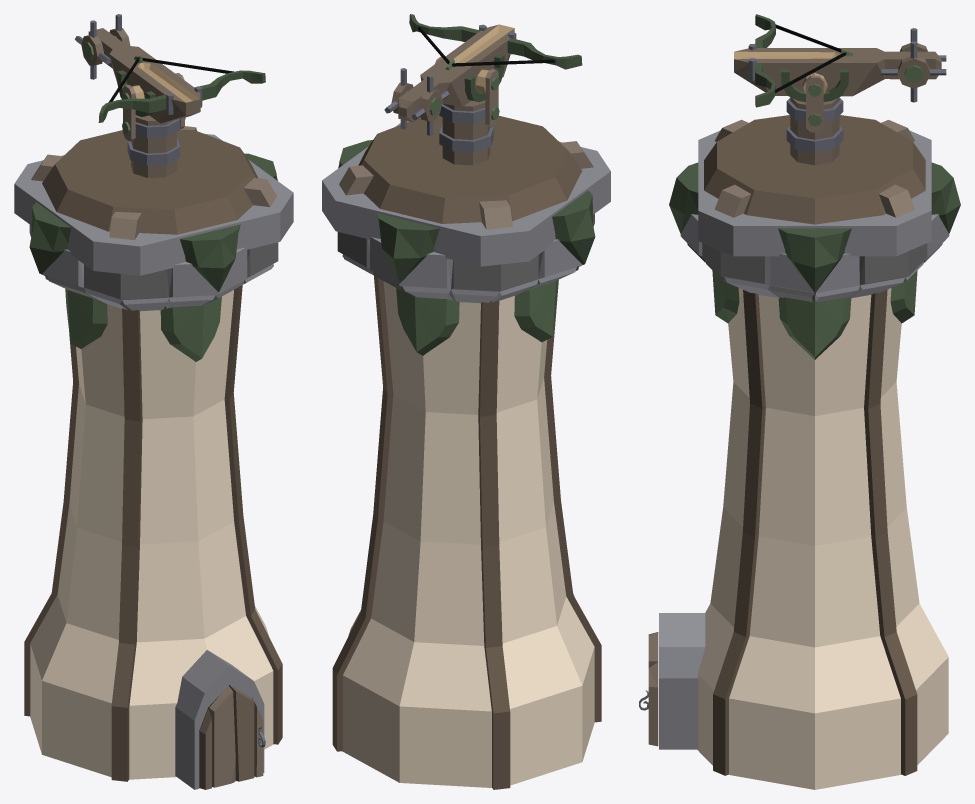
File: _Ballista_tower_LVL_1.fbx
The picture shows the model from 3 angles, left to right: view 1: azimuth 30°, elevation 25°; view 2: azimuth 150°, elevation 25°; view 3: azimuth 270°, elevation 25°; orthographic projection. The views are drawn at different scales.
Visible parts, largest first — view 1: Ballista_tower_LVL_1; view 2: Ballista_tower_LVL_1; view 3: Ballista_tower_LVL_1.
Boxes of the visible parts, <box> form: Ballista_tower_LVL_1: <box>14,14,293,789</box>; Ballista_tower_LVL_1: <box>322,14,610,789</box>; Ballista_tower_LVL_1: <box>639,14,960,789</box>.
Bounding box in the file's own units: 547 × 1409 × 590.
